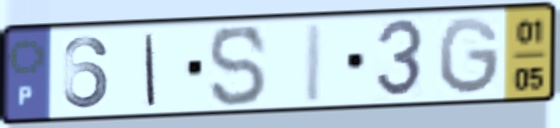3: (370, 15, 426, 103)
6: (62, 34, 112, 112)
G: (435, 14, 503, 98)
I: (300, 20, 328, 106), (142, 31, 159, 108)
S: (206, 23, 270, 110)
